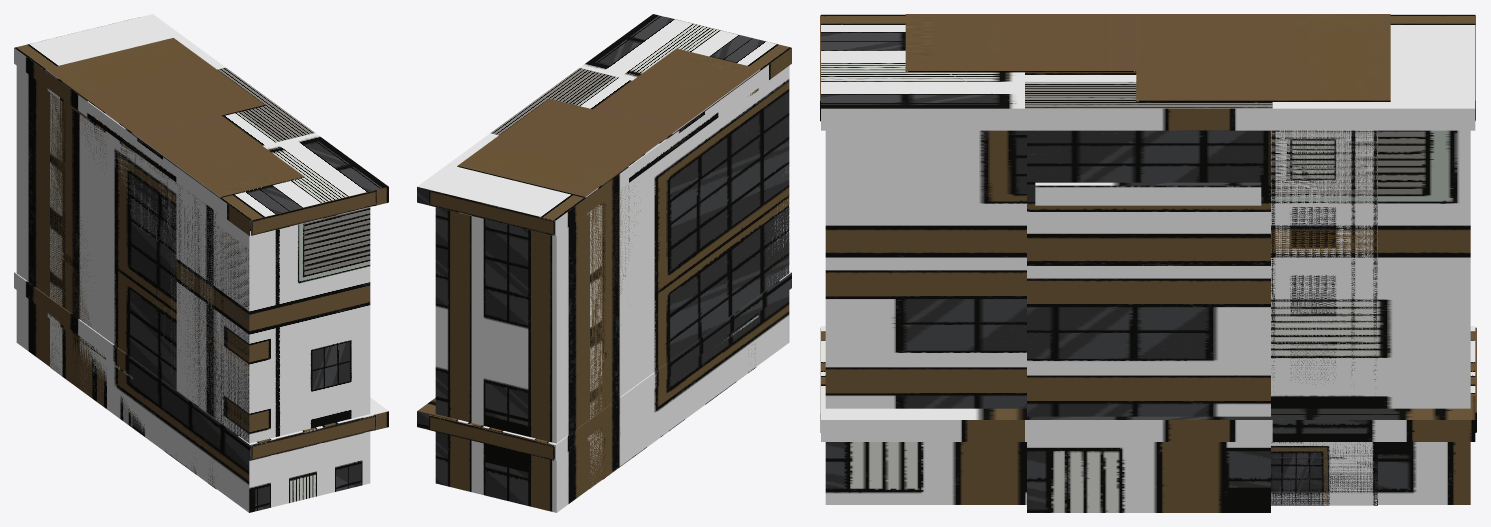
The model's file is predio-2-t.glb.
The picture shows the model from 3 angles, left to right: view 1: azimuth 30°, elevation 25°; view 2: azimuth 150°, elevation 25°; view 3: azimuth 270°, elevation 25°; orthographic projection. The views are drawn at different scales.
Visible parts, largest first — view 1: Cube.001, Cube, Cube.002; view 2: Cube.002, Cube.001, Cube; view 3: Cube.001, Cube.
Part boxes in pixels (x1,y1,x2,y2): Cube.001: (14,14,388,512); Cube: (45,38,304,489); Cube.002: (15,17,376,512); Cube.002: (429,17,790,512); Cube.001: (417,14,791,512); Cube: (457,48,760,488); Cube.001: (821,14,1475,512); Cube: (905,14,1390,505).
Size of the model in its own units: 2.29 by 4.66 by 6.77.
Materials: 3 (3 with a texture image).
